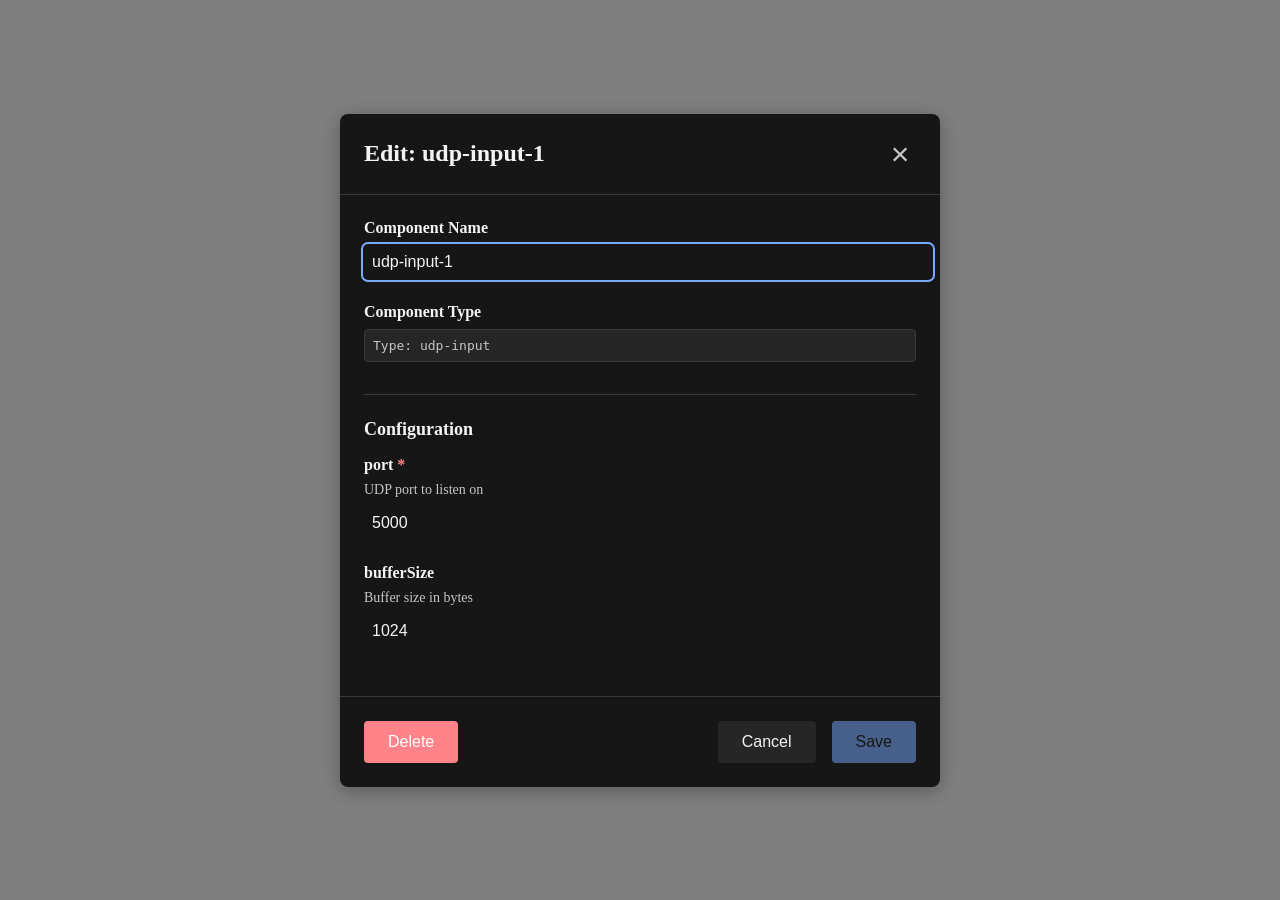
EditComponentModal › User Actions - Delete › should show confirmation dialog when Delete clicked
What coordinates should you click on to do the following:
click the button "Delete"
I would click on:
 (411, 742)
Its box is [364,720,458,762].
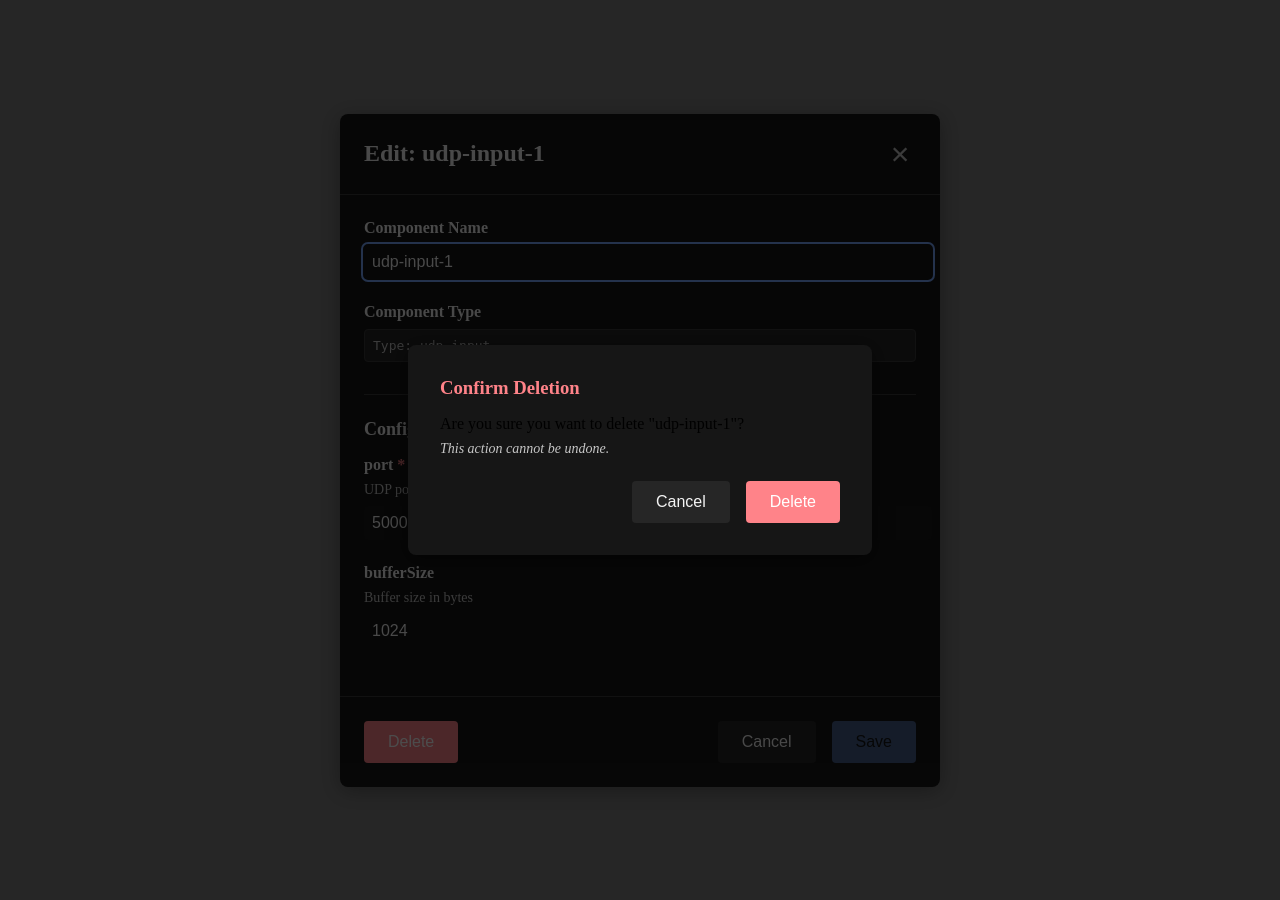
Check: the dialog with class "confirm-dialog" is shown
